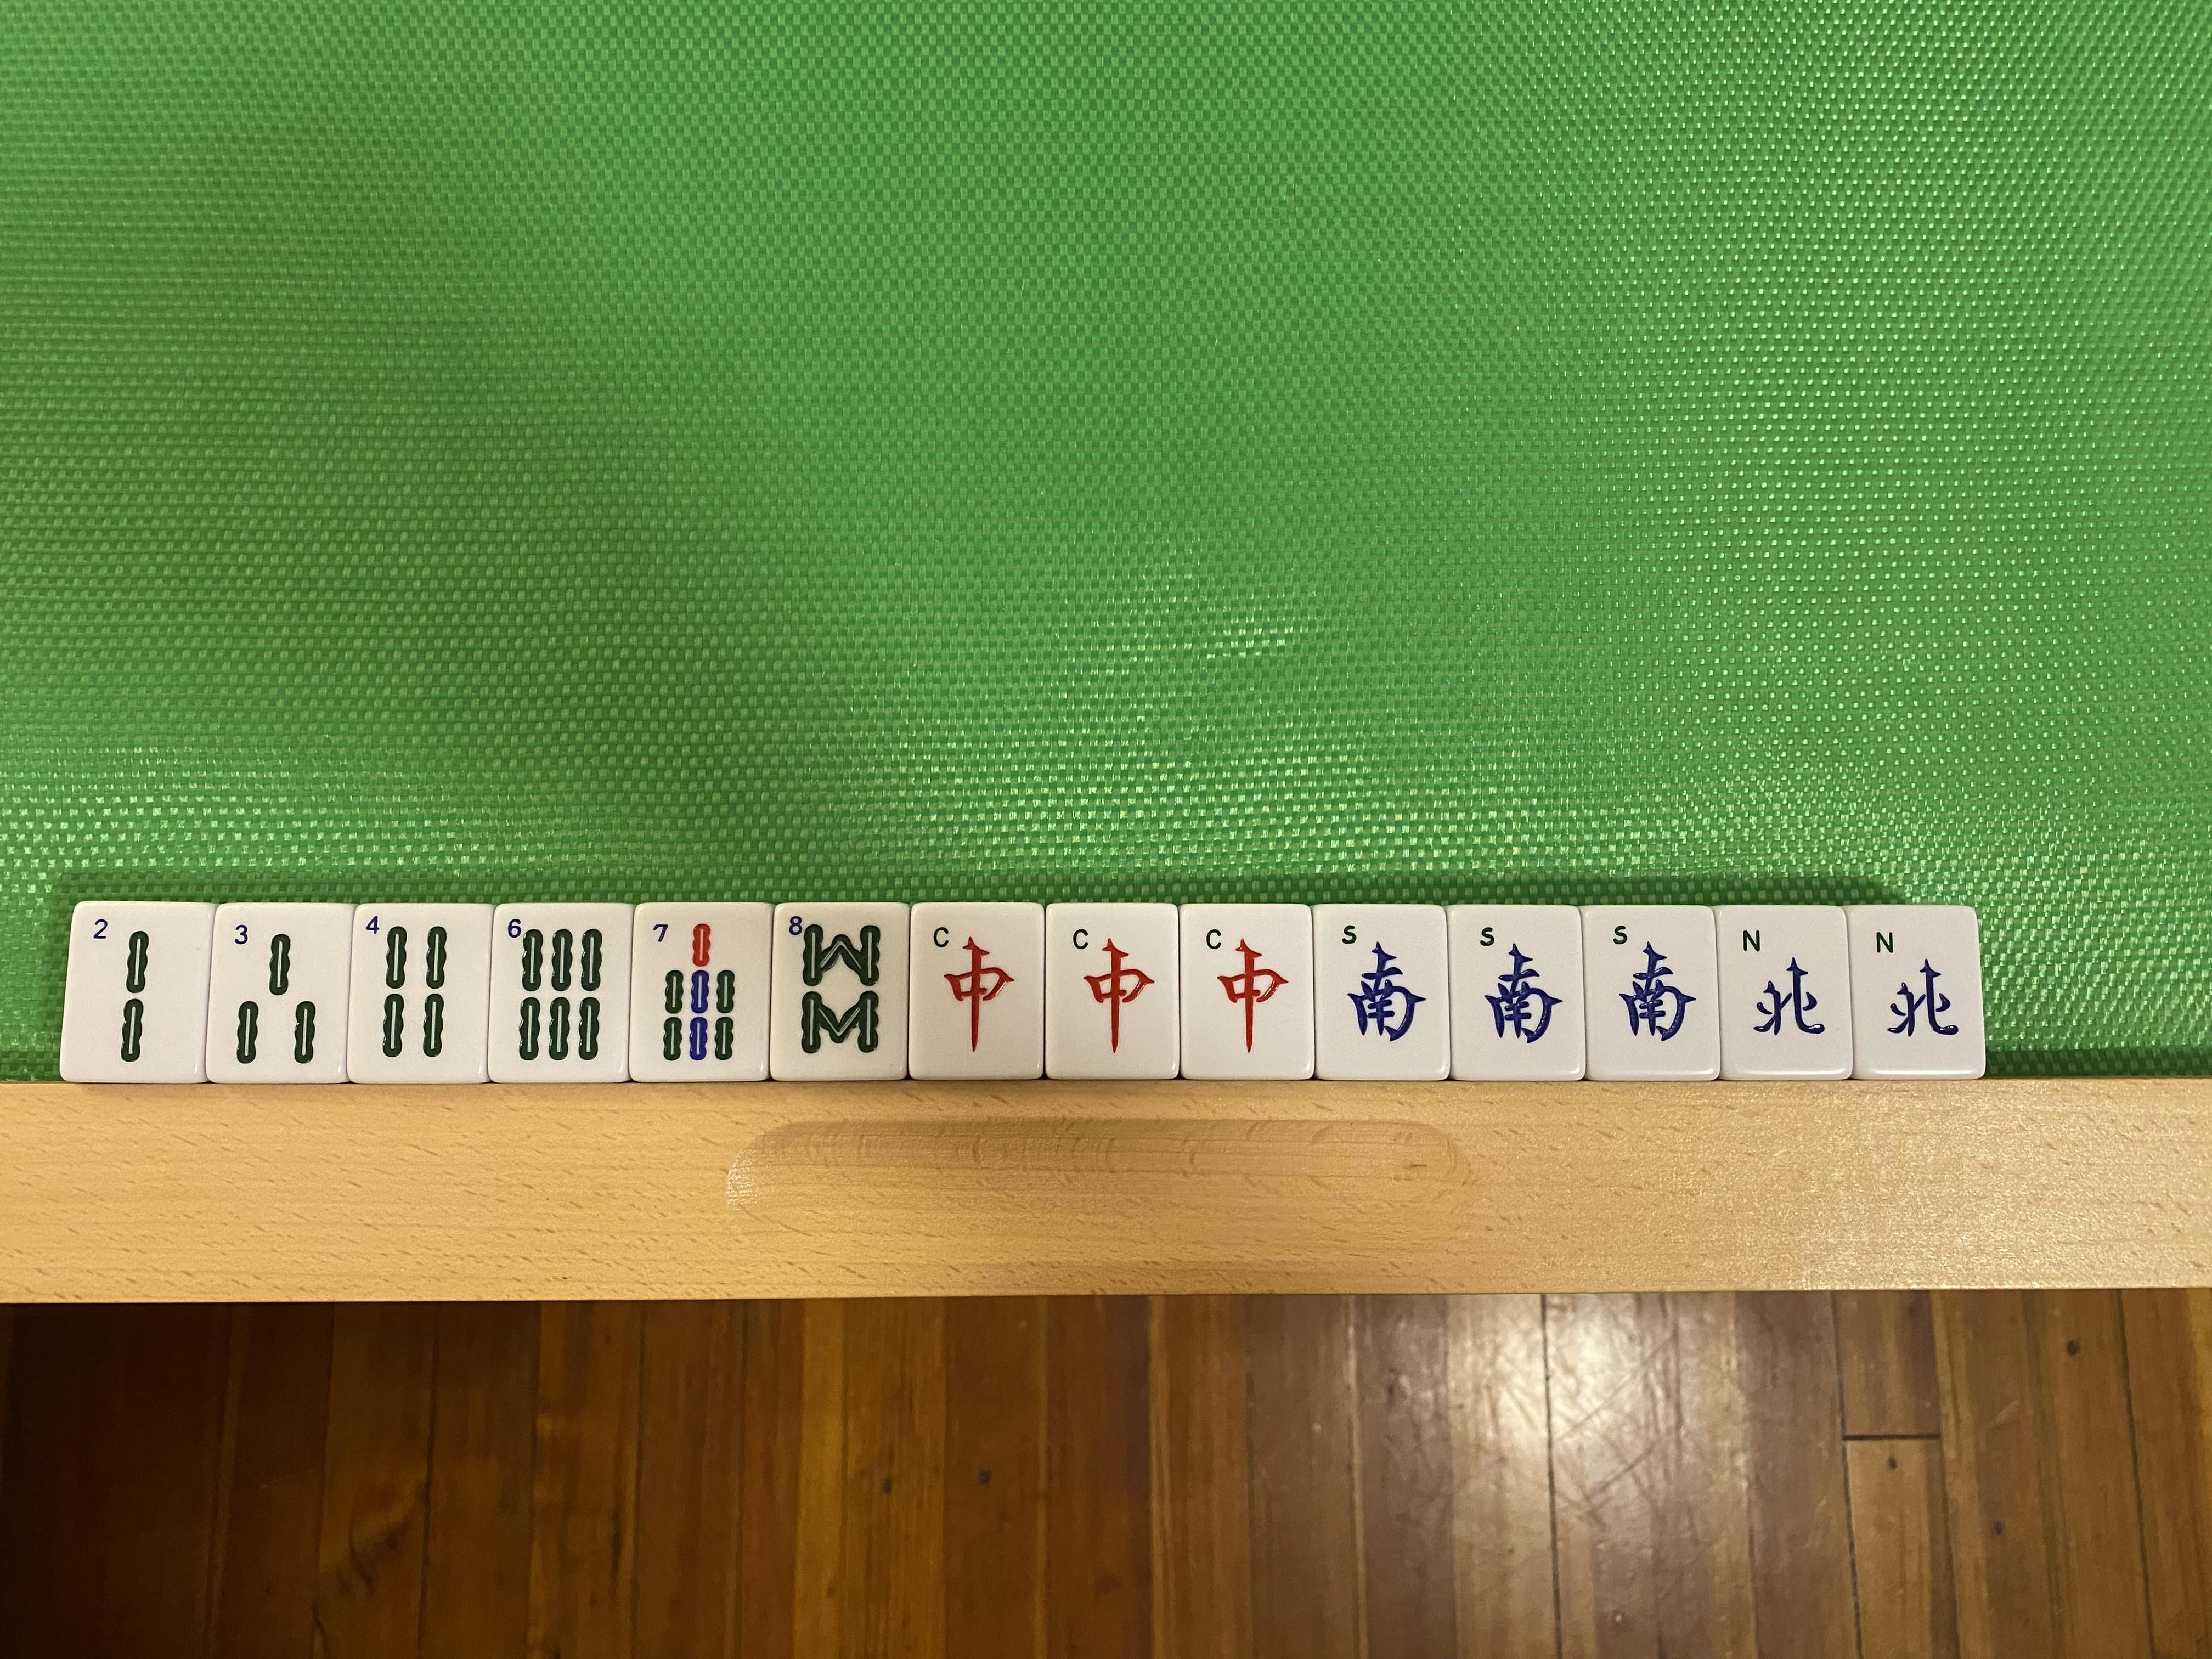bamboo-eight: (773, 906, 904, 1077)
bamboo-four: (347, 906, 488, 1080)
bamboo-seven: (632, 904, 766, 1079)
bamboo-six: (491, 908, 627, 1080)
bamboo-three: (212, 908, 347, 1080)
bamboo-two: (77, 906, 195, 1079)
honor-north_wind: (1724, 910, 1841, 1072), (1858, 908, 1970, 1070)
honor-red_dragon: (909, 904, 1042, 1080), (1181, 906, 1310, 1077), (1047, 906, 1176, 1077)
honor-south_wind: (1315, 906, 1444, 1077), (1454, 908, 1578, 1077), (1592, 908, 1714, 1075)
